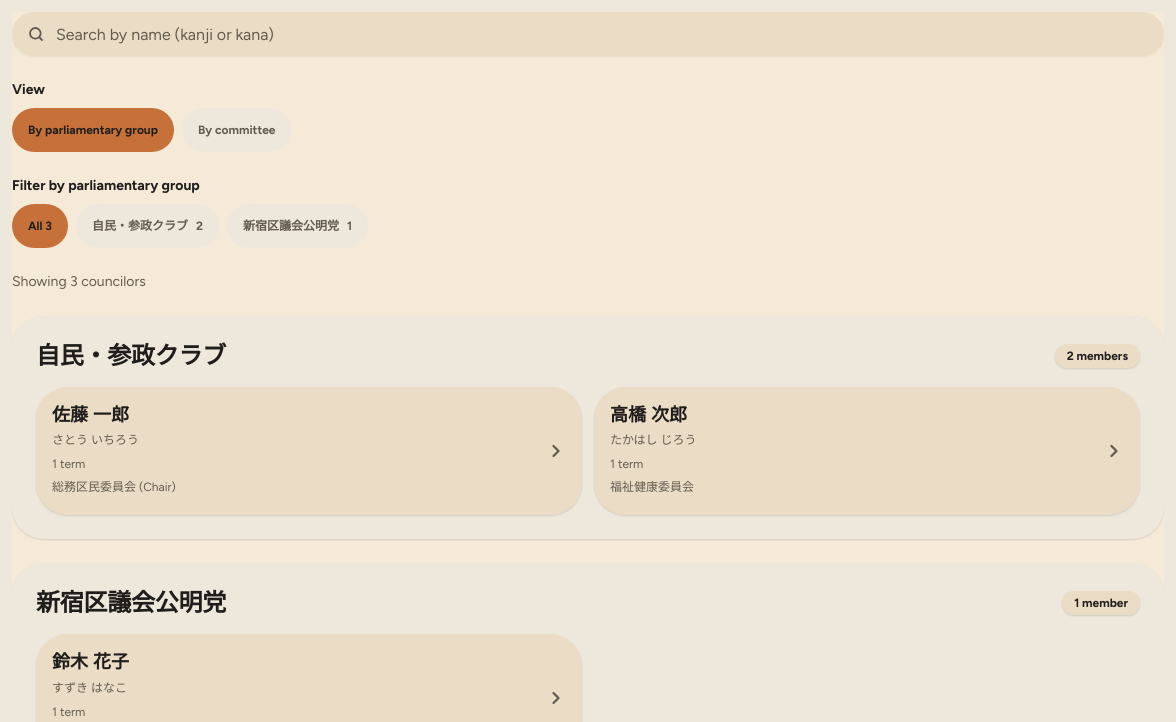
Test case: CouncilorListView › 英語表示では切り替えと件数を英語にする
Click the button "By committee" at (237,130), box [182,108,291,152]
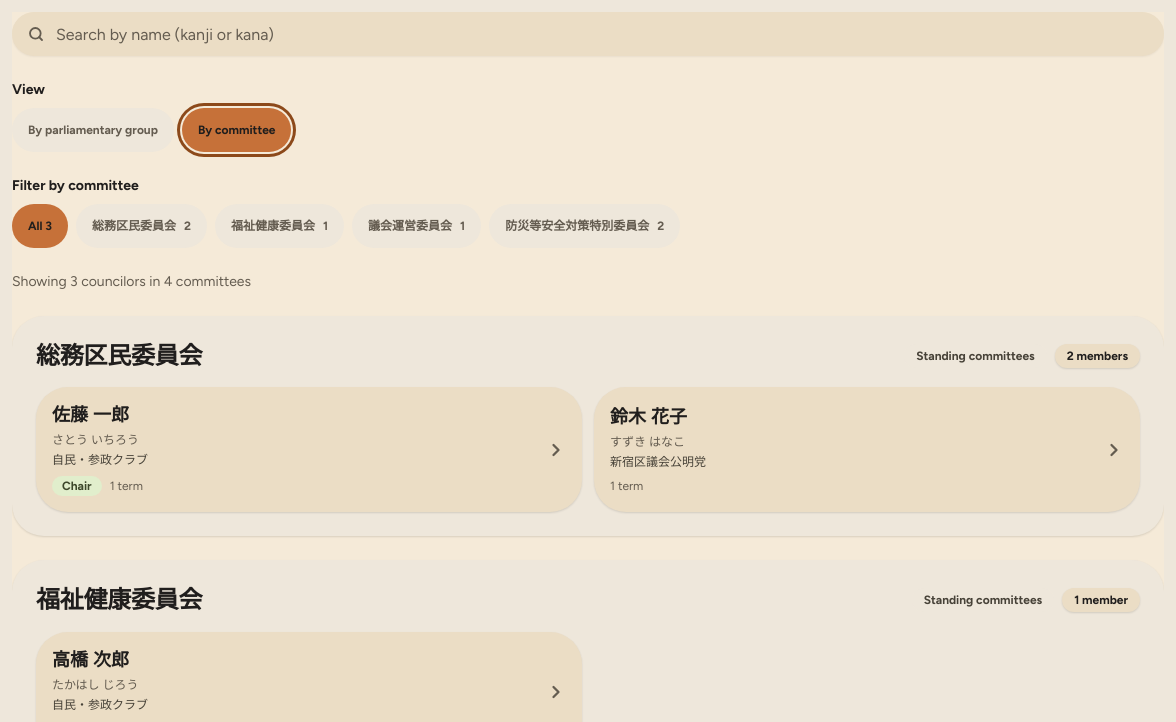
Expected: the text "Filter by committee" is shown, [12,176,139,196]
Expected: the text "Showing 3 councilors in 4 committees" is shown, [12,273,251,290]
